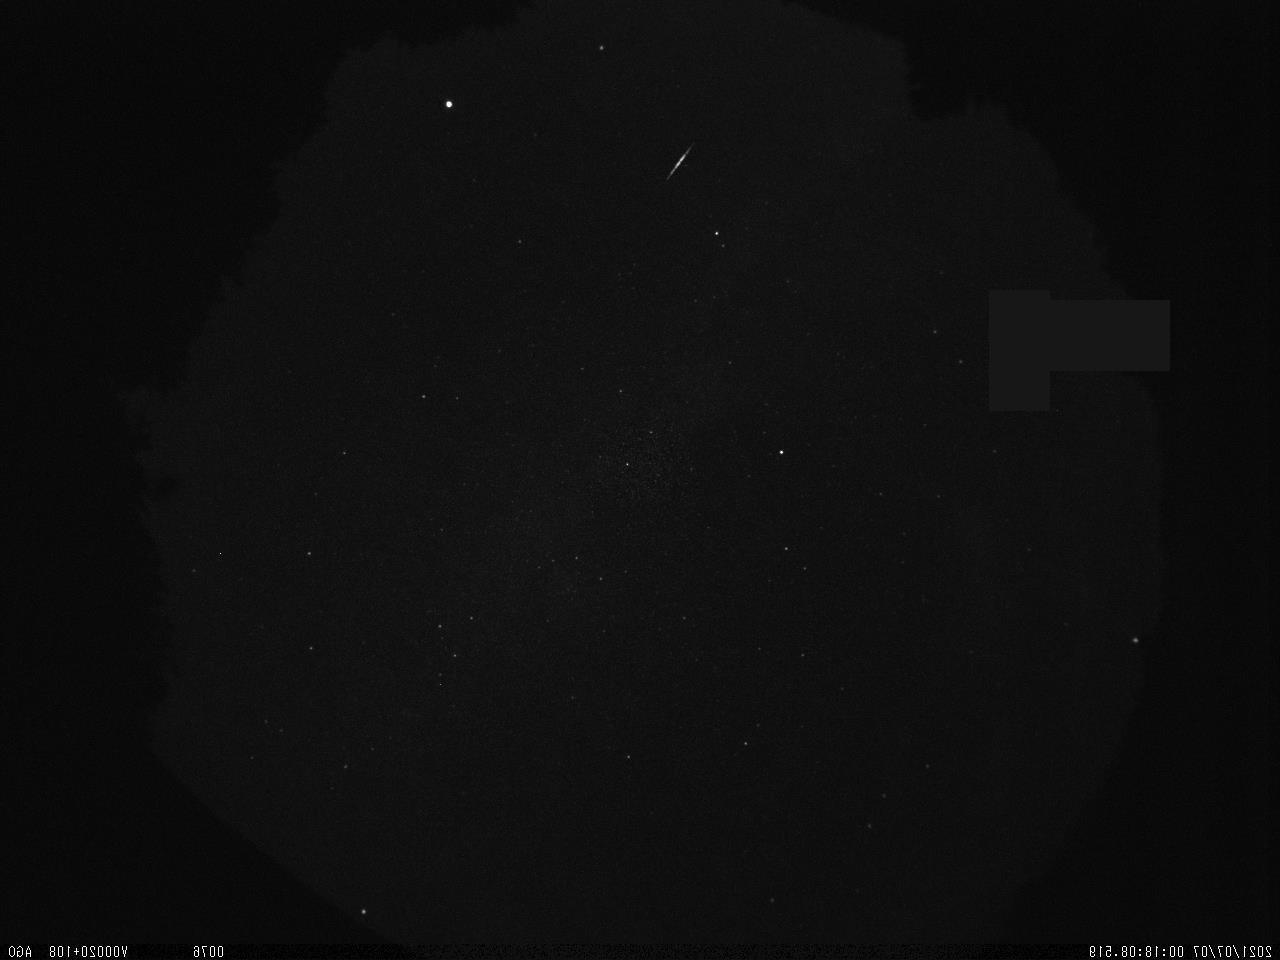meteor: (617, 106, 742, 221)
